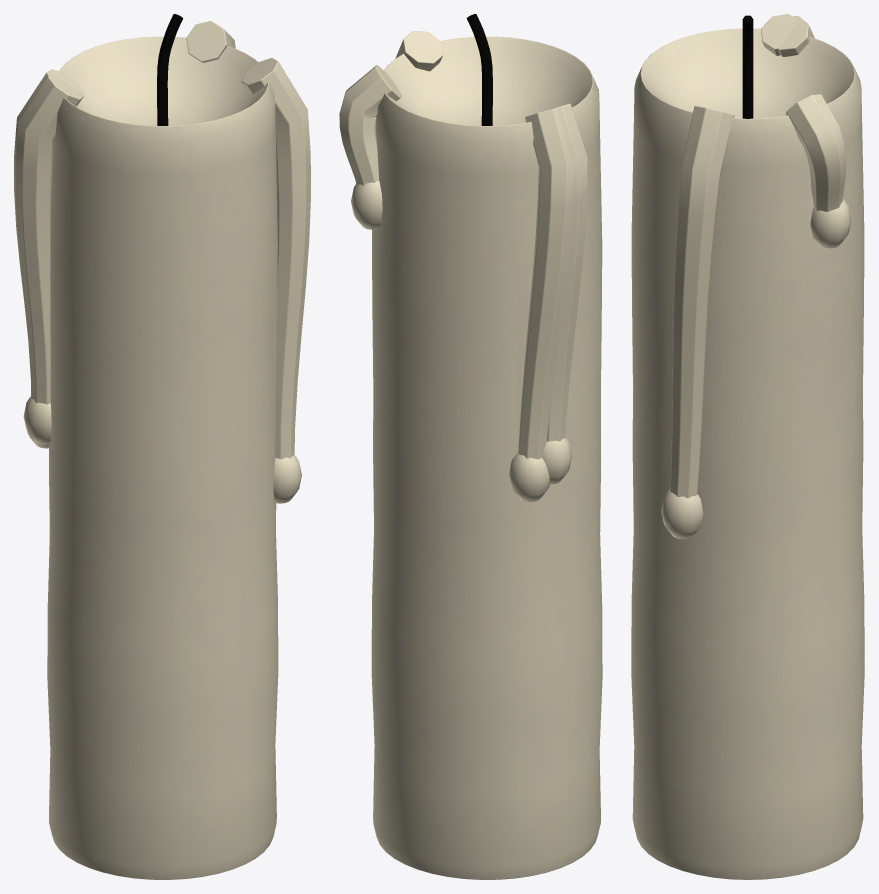
The model's file is Candle.gltf.
3 renders of one model, left to right at view 1: azimuth 30°, elevation 25°; view 2: azimuth 150°, elevation 25°; view 3: azimuth 270°, elevation 25°, orthographic.
Visible parts, largest first — view 1: Candle_Body; view 2: Candle_Body; view 3: Candle_Body.
Part boxes in pixels (x1,y1,x2,y2): Candle_Body: [14, 14, 310, 879]; Candle_Body: [339, 14, 602, 879]; Candle_Body: [631, 14, 864, 879].
Bounding box in the file's own units: 0.0534 × 0.1734 × 0.0446.
Materials: 2 (1 with a texture image).
